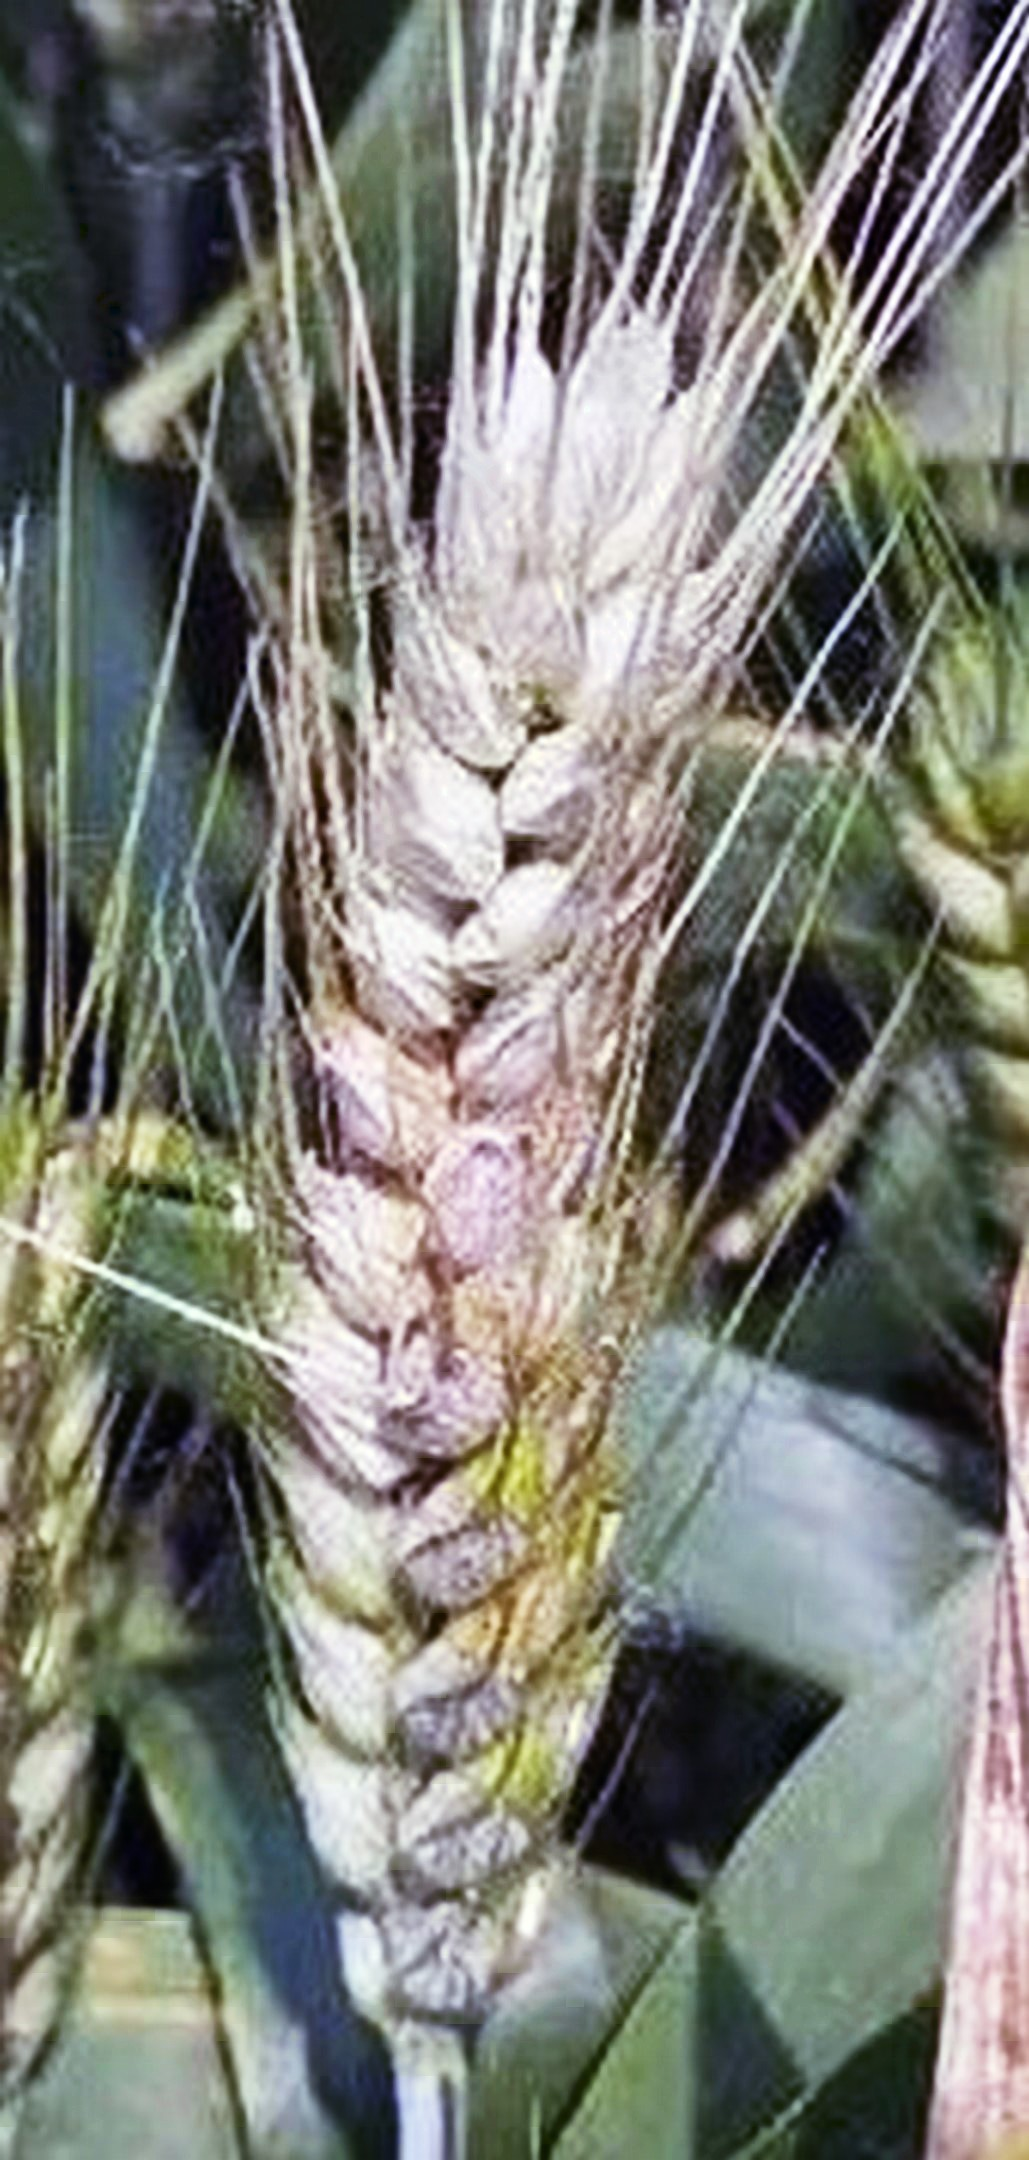Wheat scab: (282, 289, 731, 2003)
